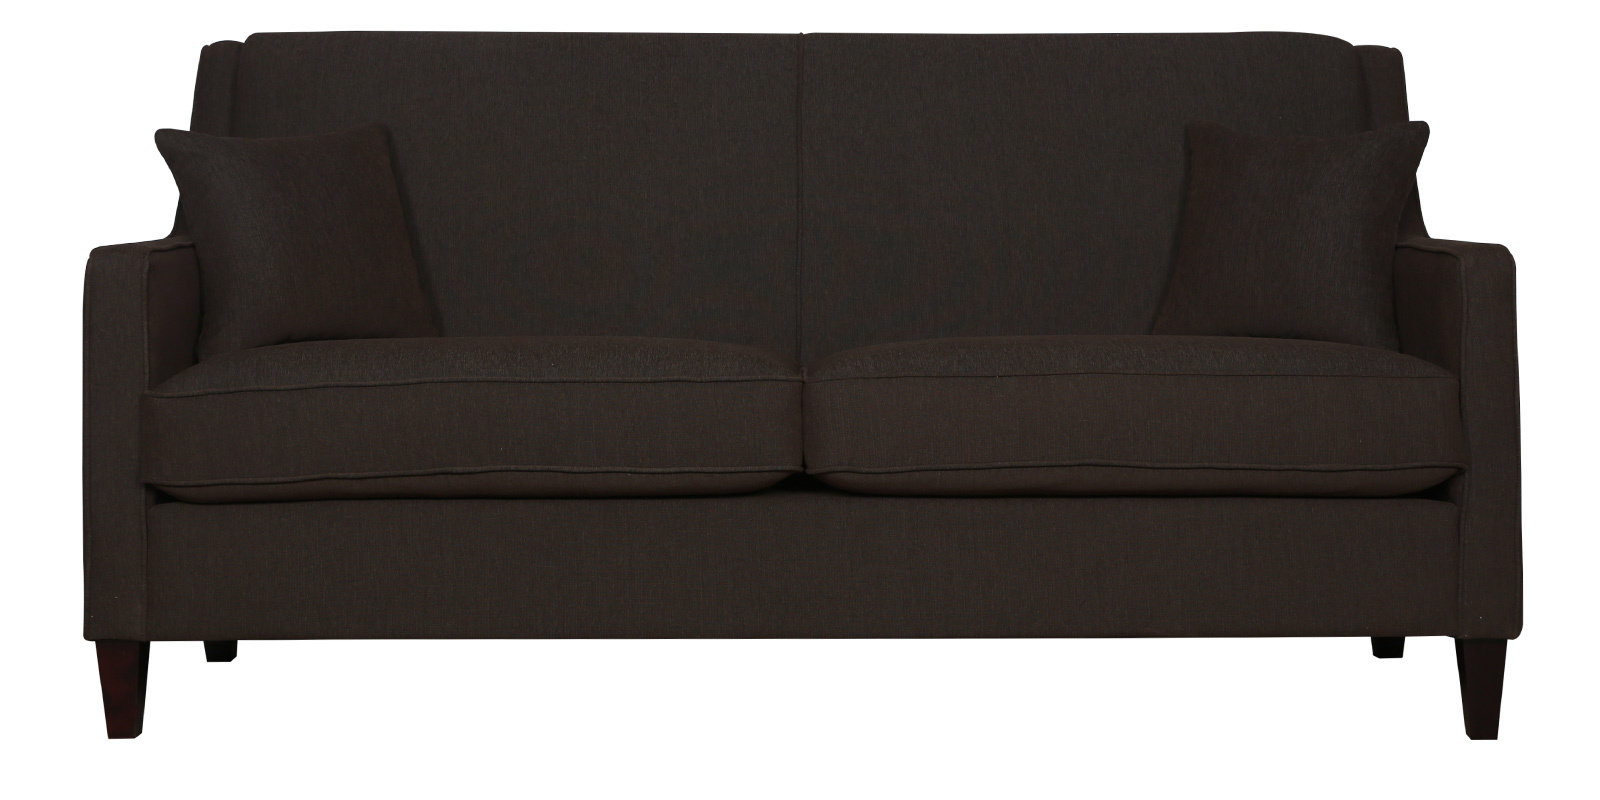Oscar Three Seater Sofa in Chestnut Brown Colour by CasaCraft: (84, 29, 1523, 737)
